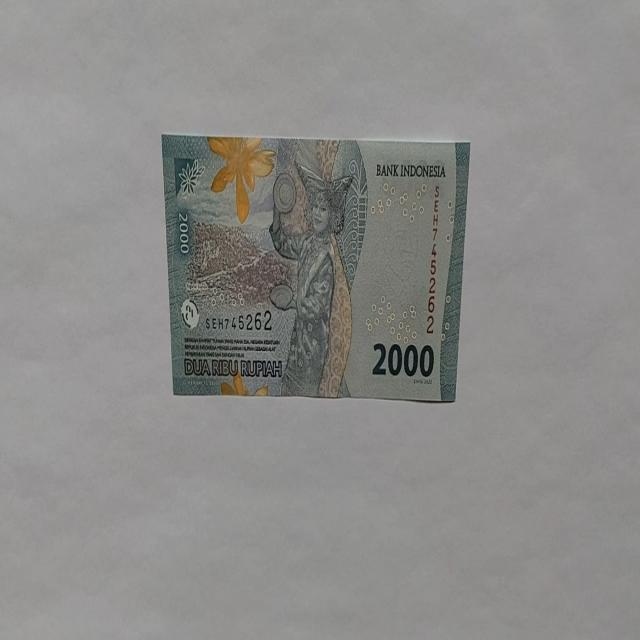dua ribu rupiah: (161, 133, 471, 402), (267, 160, 355, 398), (206, 135, 276, 224)
